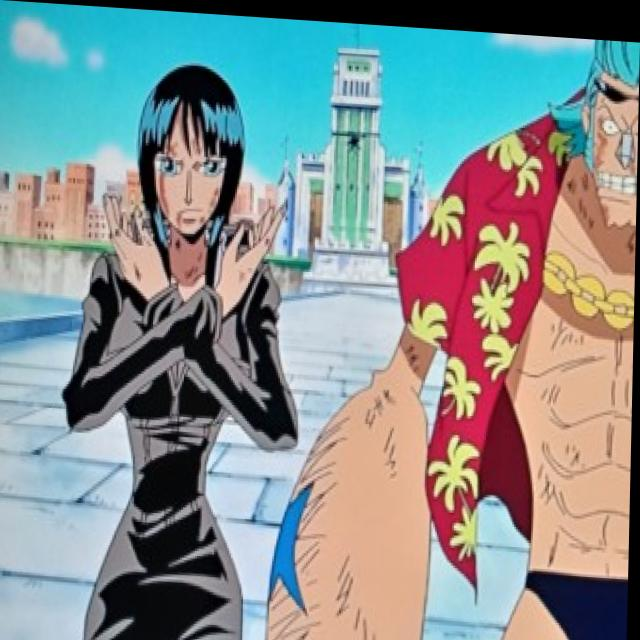Franky: (545, 29, 640, 224)
NicoRobin: (120, 55, 254, 278)
